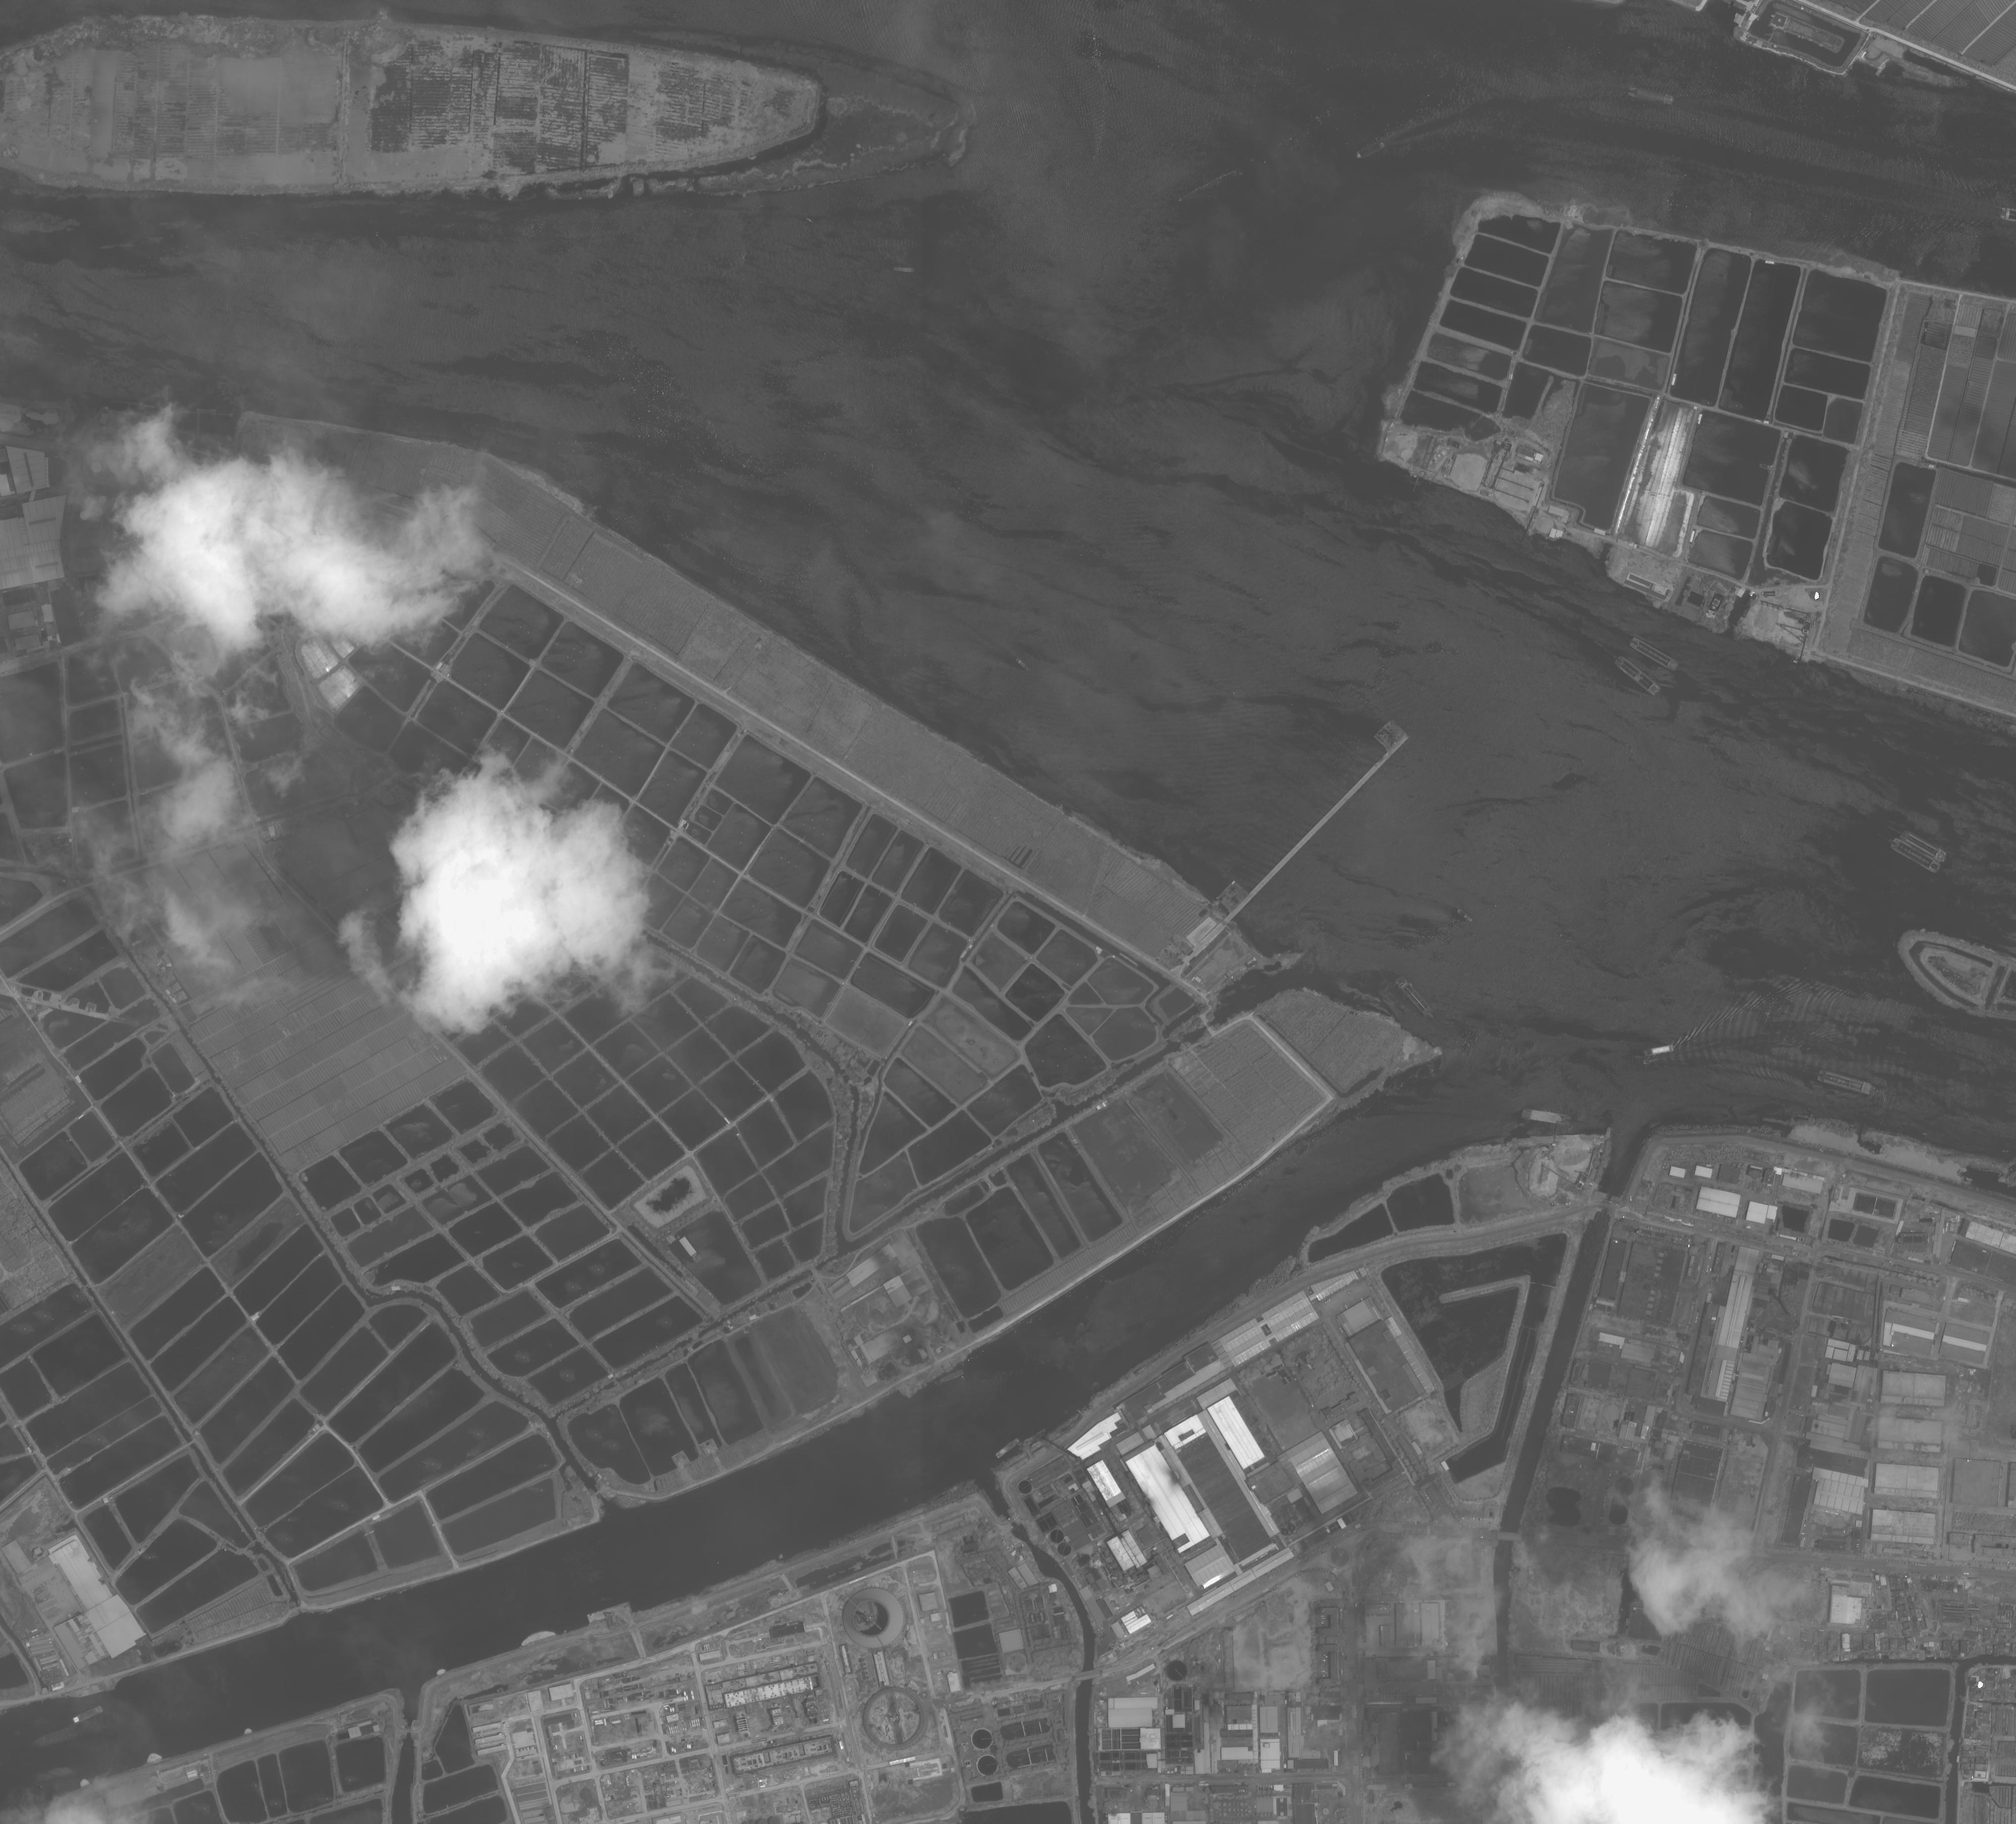harbor: (1210, 716, 1417, 922)
ship: (1391, 971, 1440, 1023), (1624, 634, 1684, 676), (1886, 836, 1946, 878), (1612, 653, 1667, 699), (1895, 827, 1951, 865), (1814, 1067, 1877, 1099), (1623, 83, 1679, 109), (1517, 1104, 1575, 1129), (1352, 139, 1389, 163), (70, 1703, 105, 1727), (992, 1434, 1024, 1461), (936, 1366, 968, 1387), (1640, 1041, 1677, 1059), (1454, 906, 1477, 925), (890, 265, 918, 276), (1013, 657, 1031, 672)
